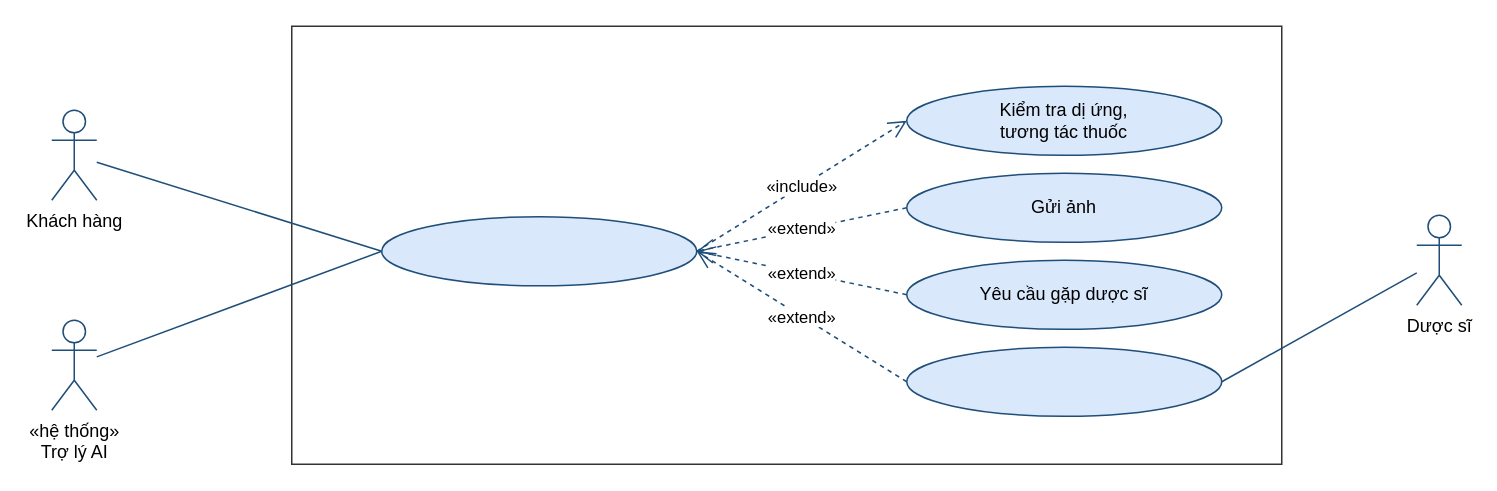
This 1497x491 diagram has some shape labels left out. Here are the shapes that lost their labels. From the top down, the centre of each, then its label:
point (538, 250): Chat tư vấn
point (1063, 381): Chuyển dược sĩ (kèm tóm tắt)
